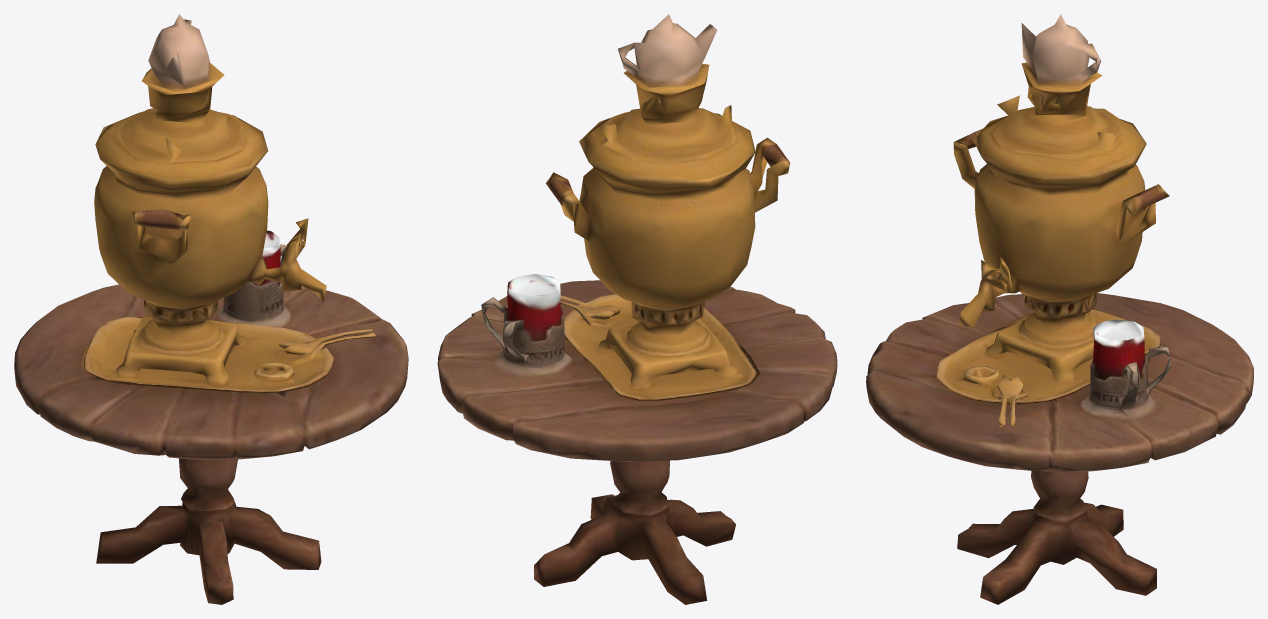
File: samovar.glb
3 renders of one model, left to right at view 1: azimuth 30°, elevation 25°; view 2: azimuth 150°, elevation 25°; view 3: azimuth 270°, elevation 25°, orthographic. The views are drawn at different scales.
Visible parts, largest first — view 1: tripo_node_d2a1f853-970d-412d-b004-742ab0ae2f00; view 2: tripo_node_d2a1f853-970d-412d-b004-742ab0ae2f00; view 3: tripo_node_d2a1f853-970d-412d-b004-742ab0ae2f00.
Boxes of the visible parts, box(x1,y1,x2,y2) form: tripo_node_d2a1f853-970d-412d-b004-742ab0ae2f00: box(14, 14, 408, 604); tripo_node_d2a1f853-970d-412d-b004-742ab0ae2f00: box(437, 14, 837, 604); tripo_node_d2a1f853-970d-412d-b004-742ab0ae2f00: box(866, 14, 1253, 604).
Size of the model in its own units: 0.6385 by 0.9811 by 0.6396.
Materials: 1 (1 with a texture image).
